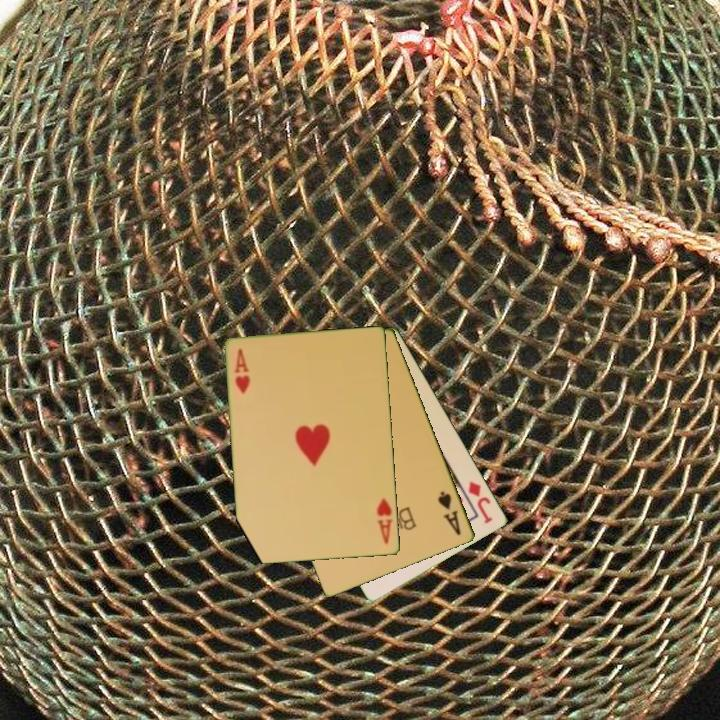Ah: (373, 495, 396, 547), (231, 345, 253, 397)
As: (435, 487, 464, 538)
Jd: (465, 478, 496, 527)
